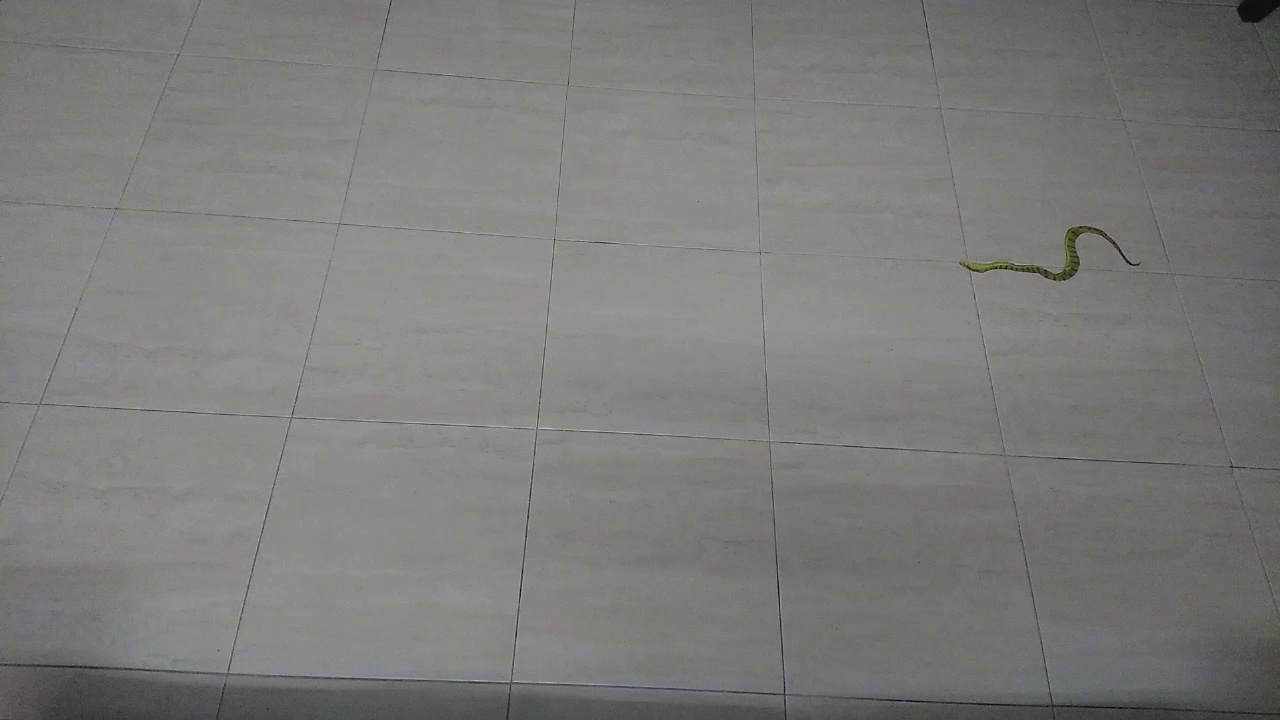snake: (948, 210, 1155, 289)
